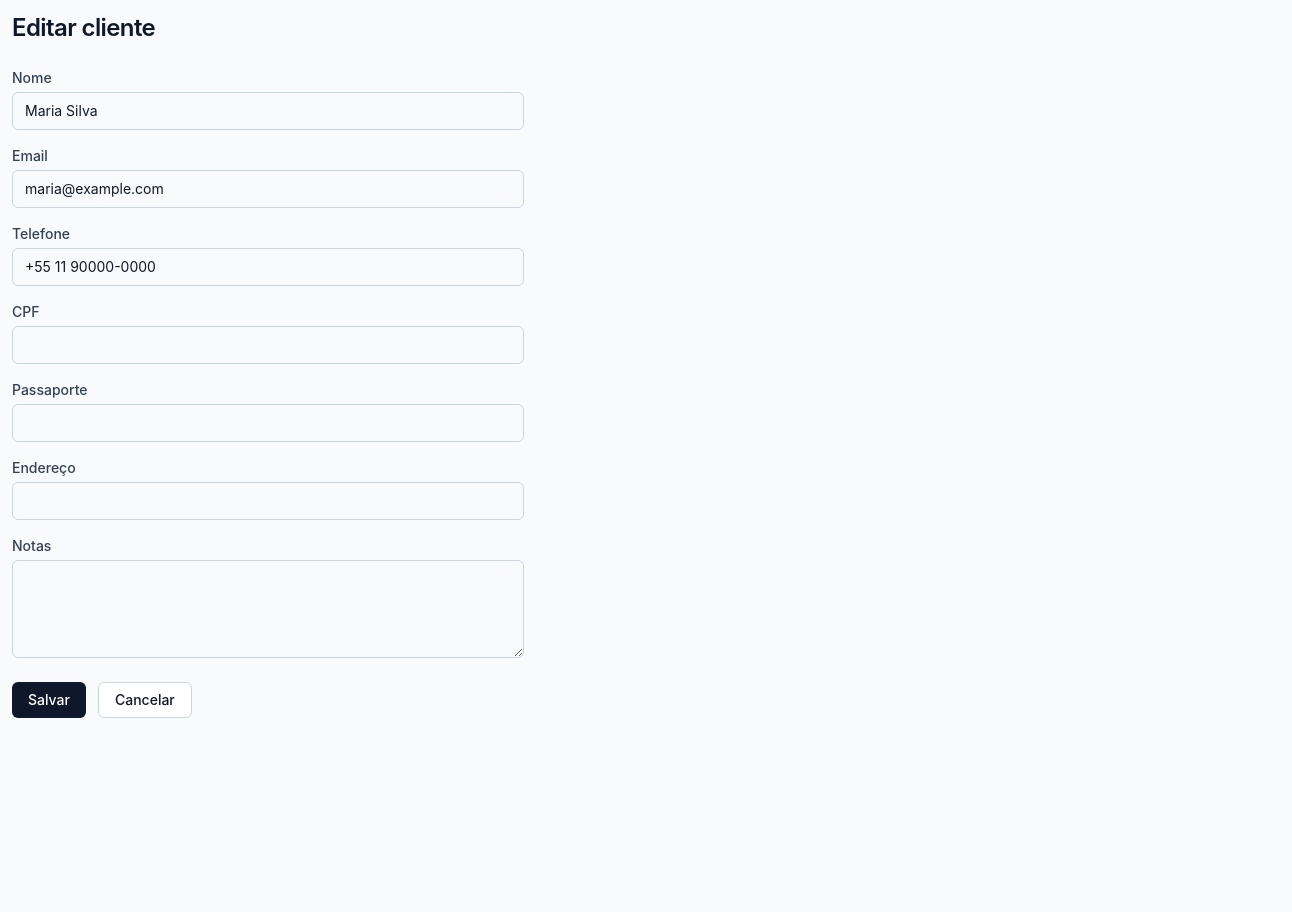
Test: CustomerEditPage › 400 error shows the backend message
Check: the field labelled "Nome" is shown, box [12,92,524,130]
Click the button "Salvar" at (49, 700), box [12,682,86,718]
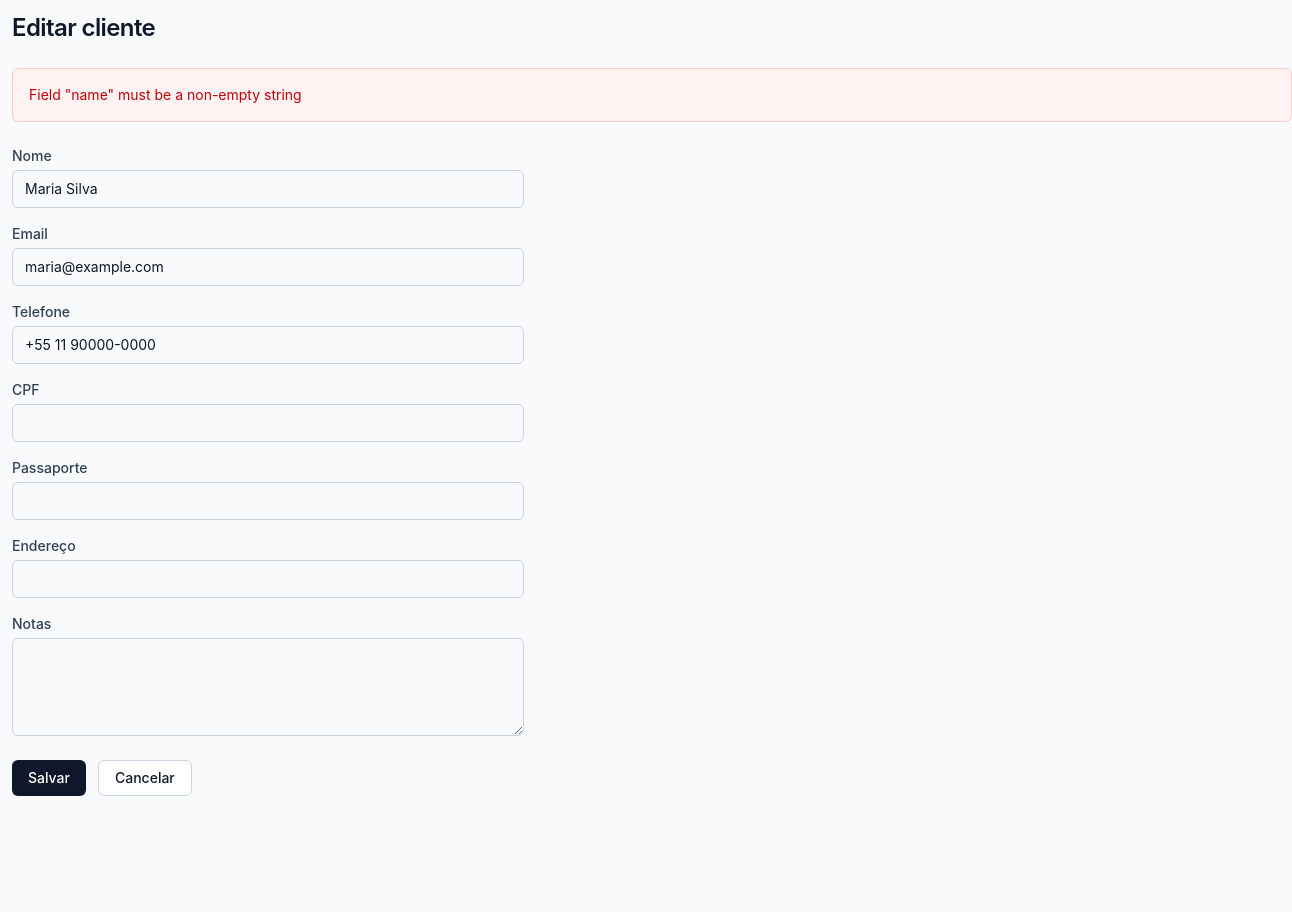
Check: the text "Field \"name\" must be a non-empty string" is shown, box [12,68,1291,122]
